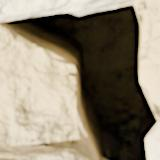brick: (0, 0, 130, 21)
broken_brick: (0, 144, 87, 159), (146, 117, 159, 159)
crack: (2, 0, 158, 159)
